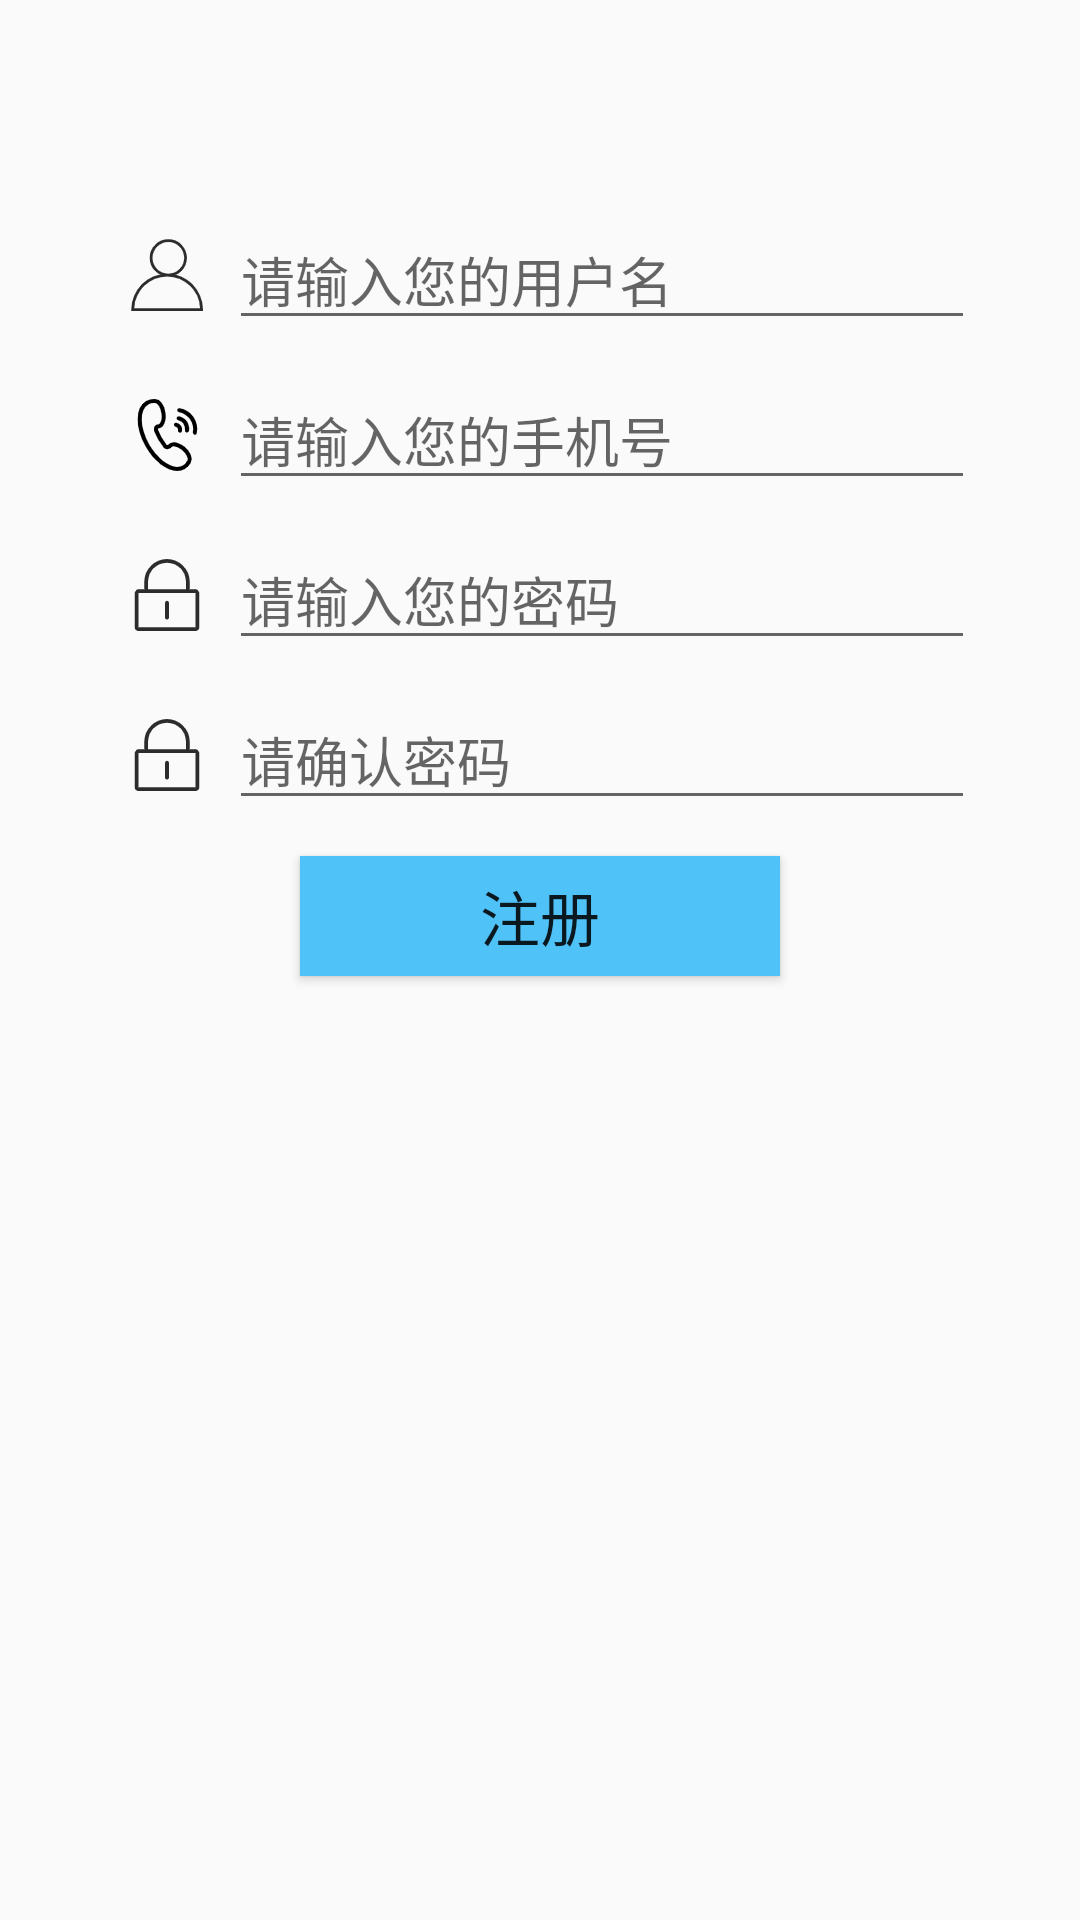

Icon bounding boxes for this 1080px x 1920px phone screenshot, format (x1, y1, x2, y2):
tele: (137, 399, 198, 471)
user: (131, 239, 203, 311)
